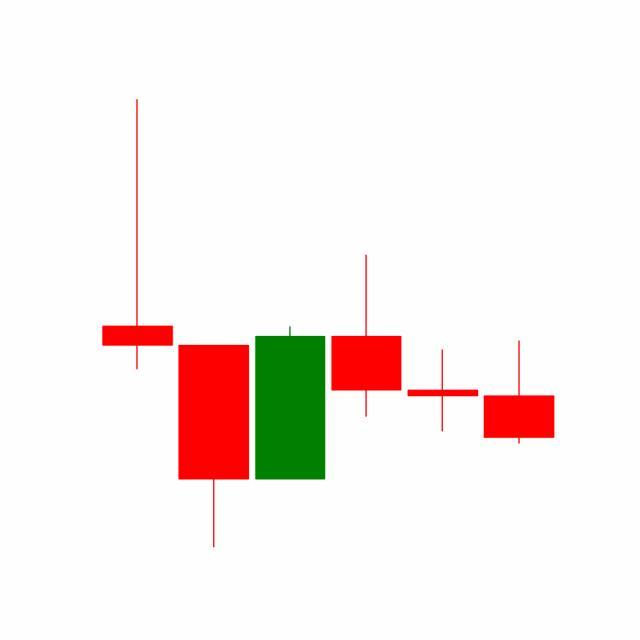Spinning Top: (404, 348, 482, 433)
